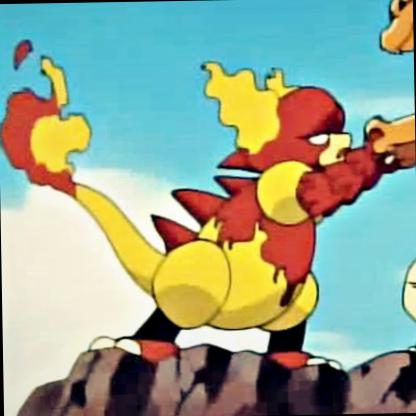Magmar: (25, 7, 413, 416)
